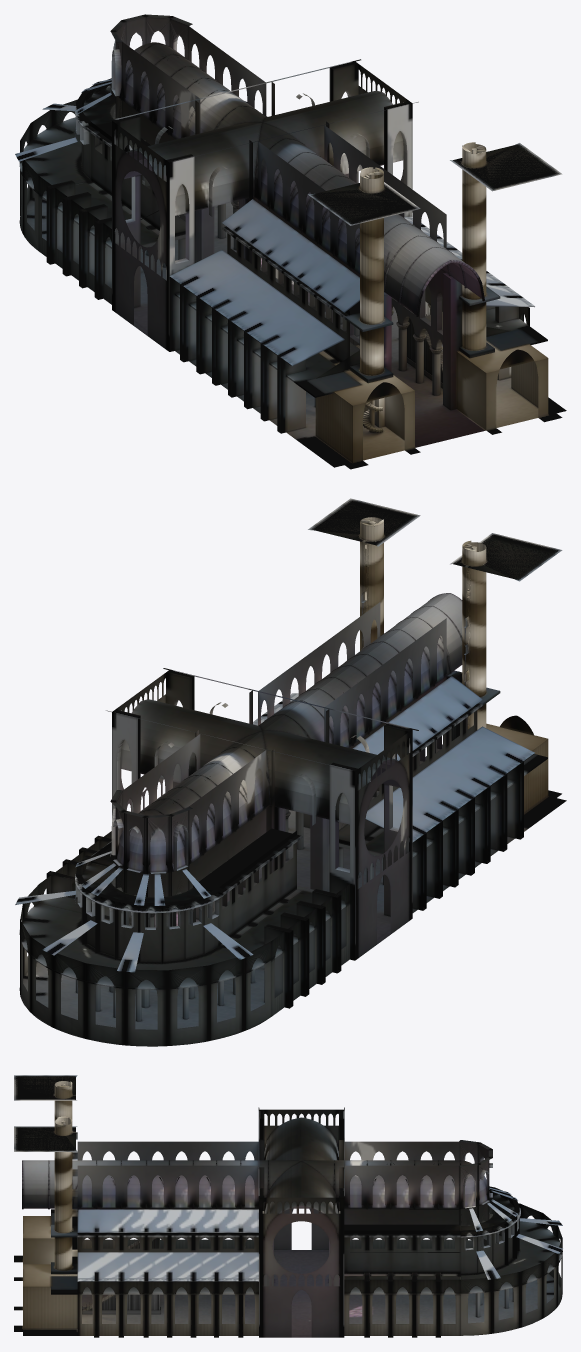
The model's file is interior.glb.
3 views of the same model, one above another, from view 1: azimuth 30°, elevation 25°; view 2: azimuth 150°, elevation 25°; view 3: azimuth 270°, elevation 25° (orthographic). The views are drawn at different scales.
Visible parts, largest first — view 1: B_int; view 2: B_int; view 3: B_int.
Part boxes in pixels (bbox=[...]): B_int: bbox=[15, 14, 566, 469]; B_int: bbox=[15, 498, 566, 1046]; B_int: bbox=[14, 1075, 562, 1337].
Size of the model in its own units: 49.38 by 48.12 by 125.
Materials: 1 (1 with a texture image).
